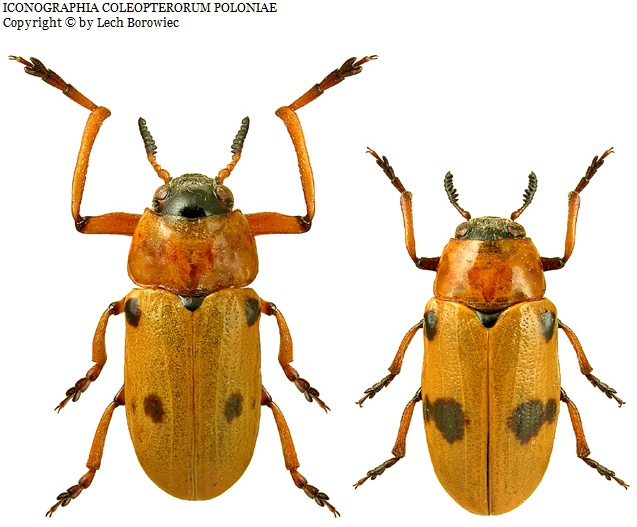Tituboea_macropus: (3, 50, 349, 522), (353, 126, 632, 512)
